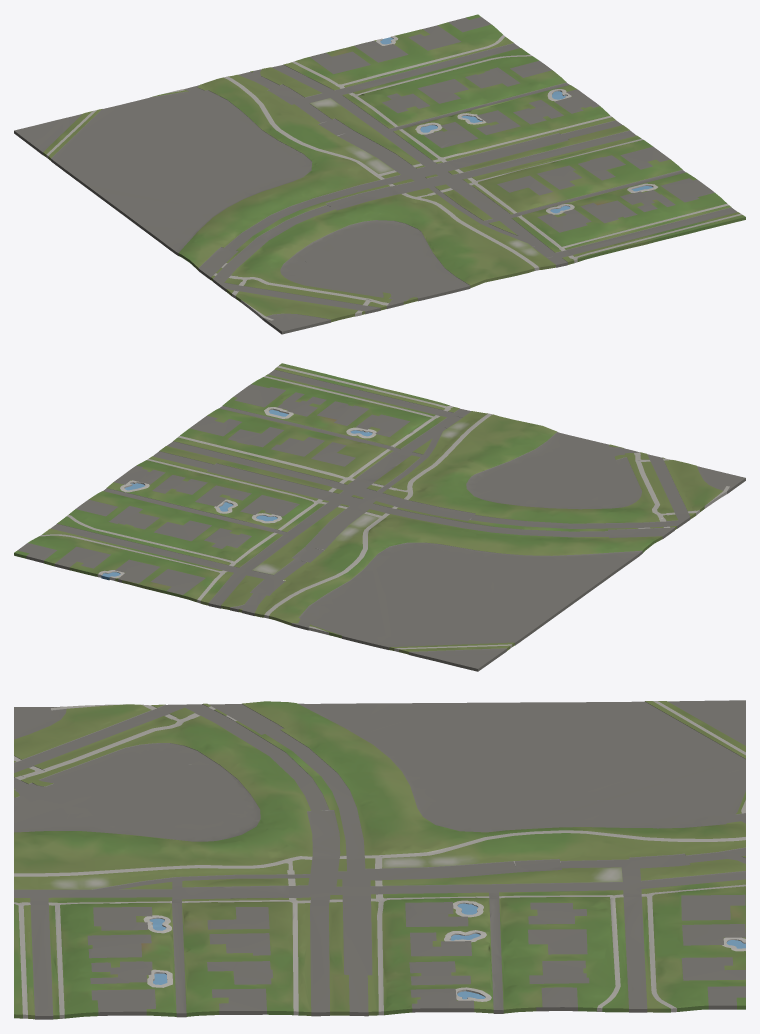
3 renders of one model, top to bottom at view 1: azimuth 30°, elevation 25°; view 2: azimuth 150°, elevation 25°; view 3: azimuth 270°, elevation 25°, orthographic. The views are drawn at different scales.
Visible parts, largest first — view 1: T-2--1.L1:utd:matte; view 2: T-2--1.L1:utd:matte, T-2--1.L1:utd:water; view 3: T-2--1.L1:utd:matte, T-2--1.L1:utd:water.
Boxes of the visible parts, x1,y1,x2,y2 form: T-2--1.L1:utd:matte: (14,14,745,334); T-2--1.L1:utd:matte: (14,363,745,671); T-2--1.L1:utd:water: (102,410,372,577); T-2--1.L1:utd:matte: (14,700,745,1019); T-2--1.L1:utd:water: (149,903,745,999).
Bounding box in the file's own units: 256 × 5.97 × 256.
